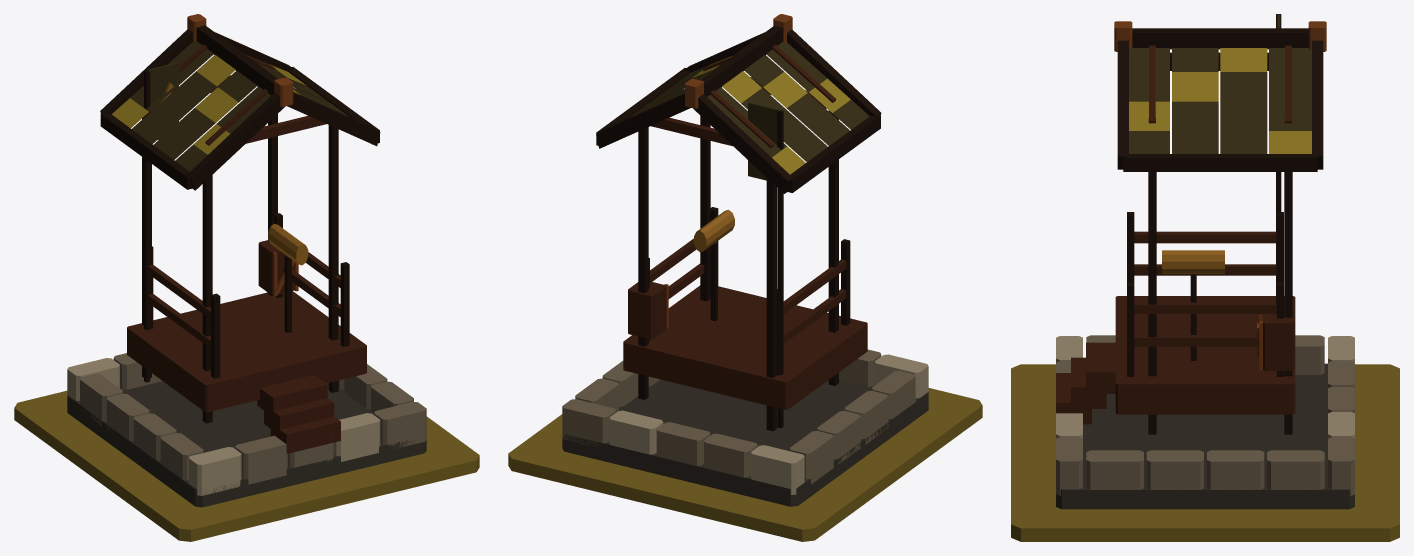
The model's file is scout_post_t6.glb.
The picture shows the model from 3 angles, left to right: view 1: azimuth 30°, elevation 25°; view 2: azimuth 150°, elevation 25°; view 3: azimuth 270°, elevation 25°; orthographic projection. The views are drawn at different scales.
Visible parts, largest first — view 1: MMR | scout_post | T06 Architecture.001, MMR | scout_post | Tier 06 Ground.001; view 2: MMR | scout_post | T06 Architecture.001, MMR | scout_post | Tier 06 Ground.001; view 3: MMR | scout_post | T06 Architecture.001, MMR | scout_post | Tier 06 Ground.001.
Part boxes in pixels (<box>): MMR | scout_post | T06 Architecture.001: <box>67,14,426,507</box>; MMR | scout_post | Tier 06 Ground.001: <box>14,390,479,541</box>; MMR | scout_post | T06 Architecture.001: <box>562,14,928,506</box>; MMR | scout_post | Tier 06 Ground.001: <box>508,388,982,541</box>; MMR | scout_post | T06 Architecture.001: <box>1056,14,1354,509</box>; MMR | scout_post | Tier 06 Ground.001: <box>1011,364,1399,541</box>.
Size of the model in its own units: 1.3 by 1.61 by 1.3.
Materials: 1 (1 with a texture image).
